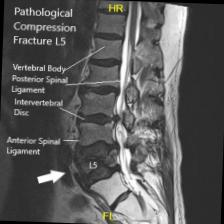pathological-fracture: (63, 0, 190, 224)
